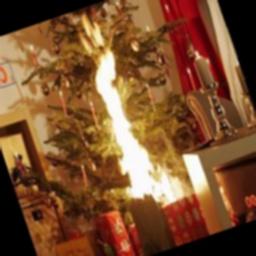fire: (68, 15, 193, 218)
